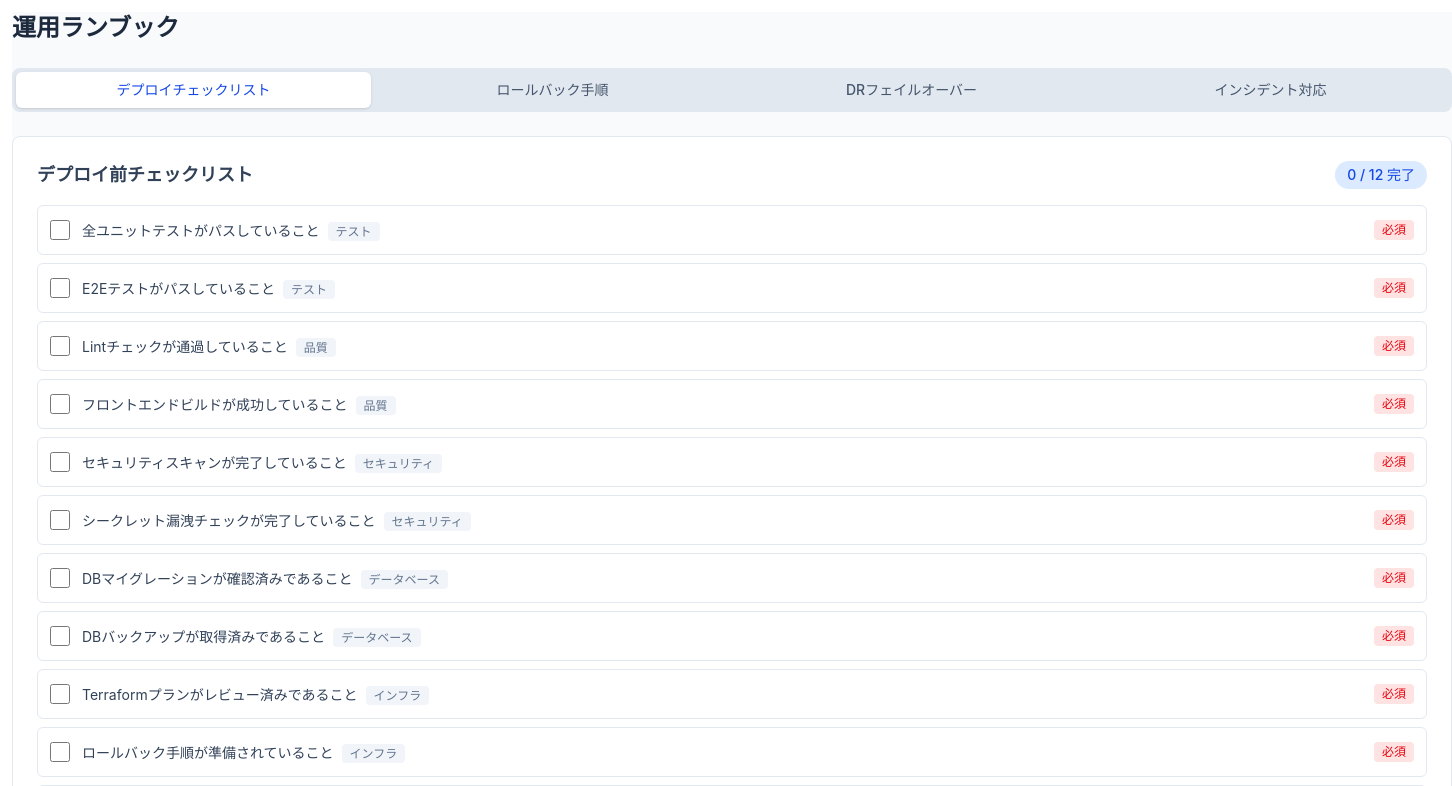
Test: RunbookPage tab navigation › hides checklist content when switching to rollback tab
The width and height of the screenshot is (1452, 786).
Click the button "ロールバック手順": (552, 90) [375, 72, 730, 108]
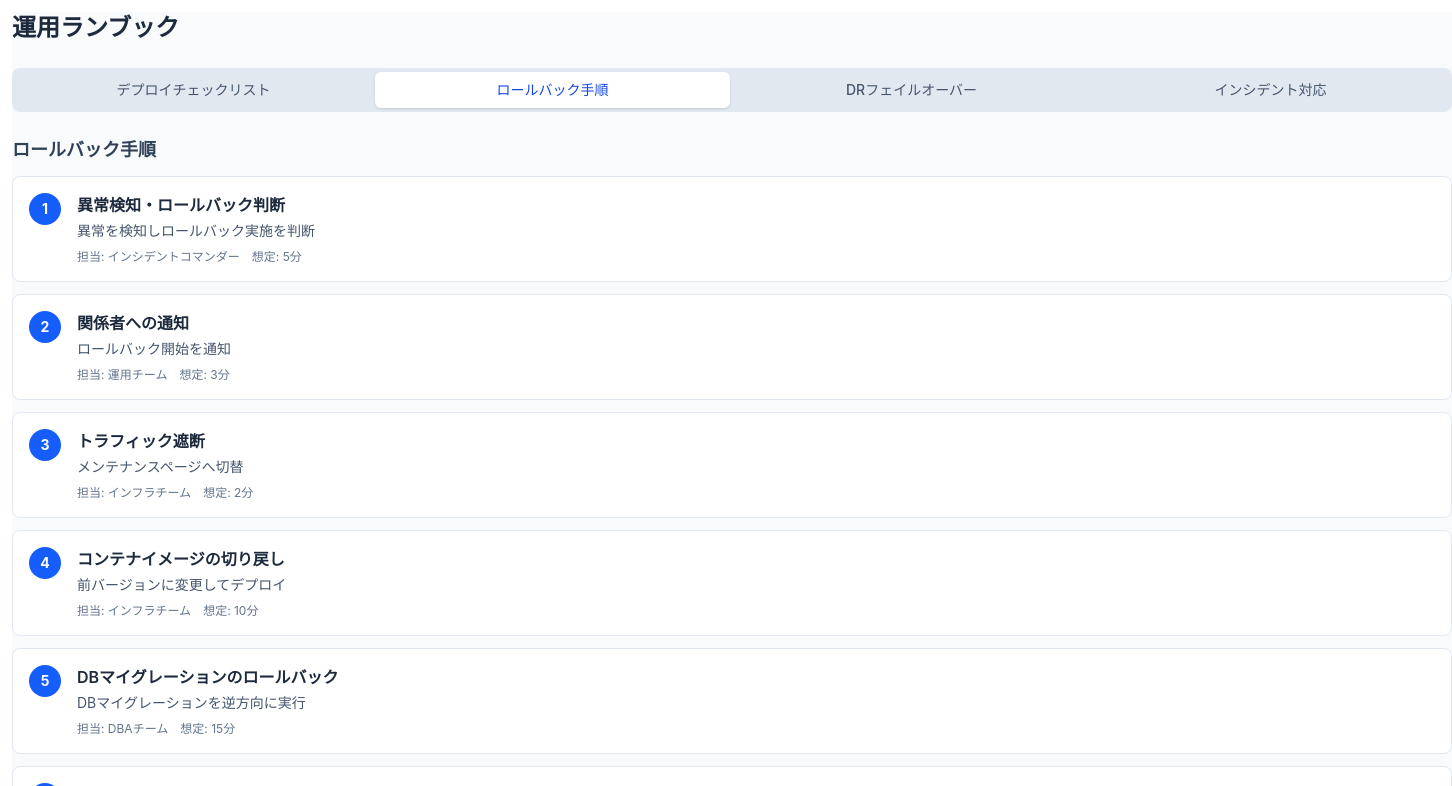
Now the heading "デプロイ前チェックリスト" is gone
